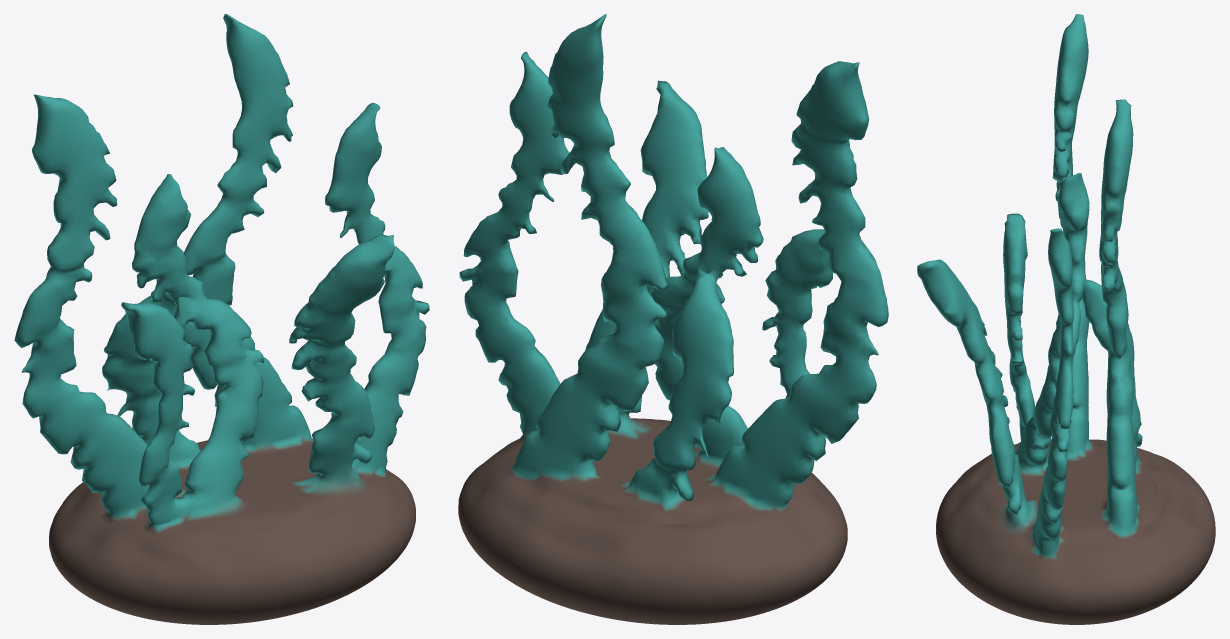
File: Plante marine 2.glb
3 renders of one model, left to right at view 1: azimuth 30°, elevation 25°; view 2: azimuth 150°, elevation 25°; view 3: azimuth 270°, elevation 25°, orthographic. The views are drawn at different scales.
Parts seen in each view (by area): view 1: Sphere; view 2: Sphere; view 3: Sphere.
Part boxes in pixels (box(x1,y1,x2,y2)): Sphere: box(14, 14, 429, 624); Sphere: box(458, 14, 888, 624); Sphere: box(917, 14, 1215, 624).
Bounding box in the file's own units: 1.23 × 1.6 × 0.8677.
